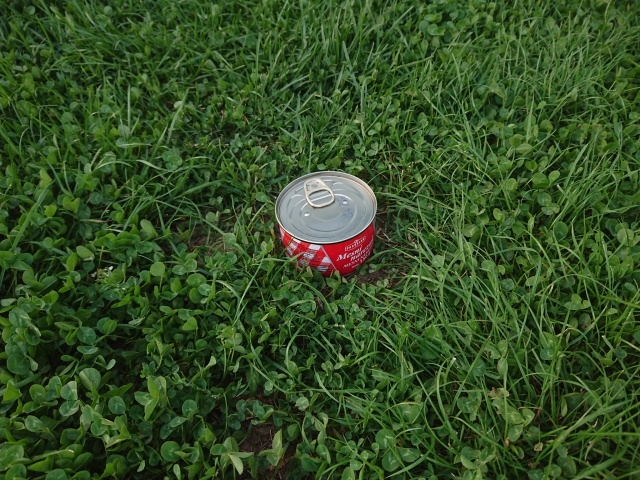Podravka Luncheon Meat 150g: (272, 169, 380, 278)
